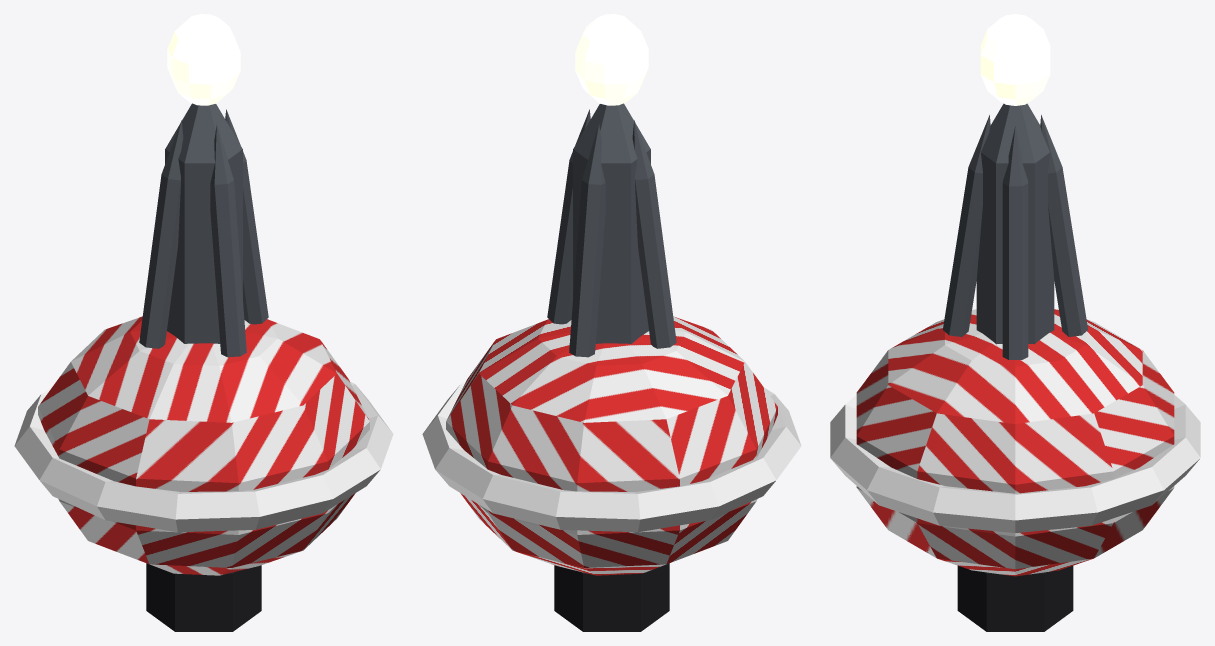
The model's file is Buoy.fbx.
The picture shows the model from 3 angles, left to right: view 1: azimuth 30°, elevation 25°; view 2: azimuth 150°, elevation 25°; view 3: azimuth 270°, elevation 25°; orthographic projection.
Visible parts, largest first — view 1: Buoy, Buoy_Glow; view 2: Buoy, Buoy_Glow; view 3: Buoy, Buoy_Glow.
Boxes of the visible parts, x1,y1,x2,y2 form: Buoy: [14, 103, 393, 631]; Buoy_Glow: [167, 14, 240, 105]; Buoy: [422, 103, 801, 631]; Buoy_Glow: [575, 14, 648, 105]; Buoy: [830, 103, 1200, 631]; Buoy_Glow: [980, 14, 1050, 105].
Bounding box in the file's own units: 222 × 383 × 216.
Materials: 2 (1 with a texture image).
